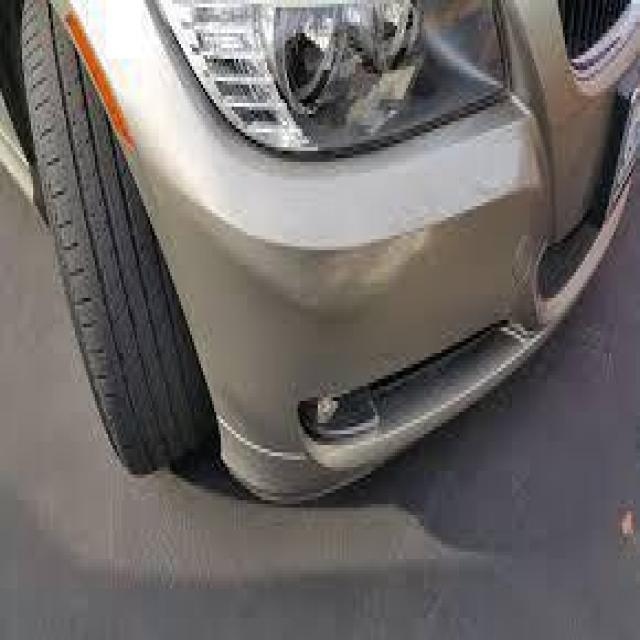damaged: (304, 228, 432, 298)
